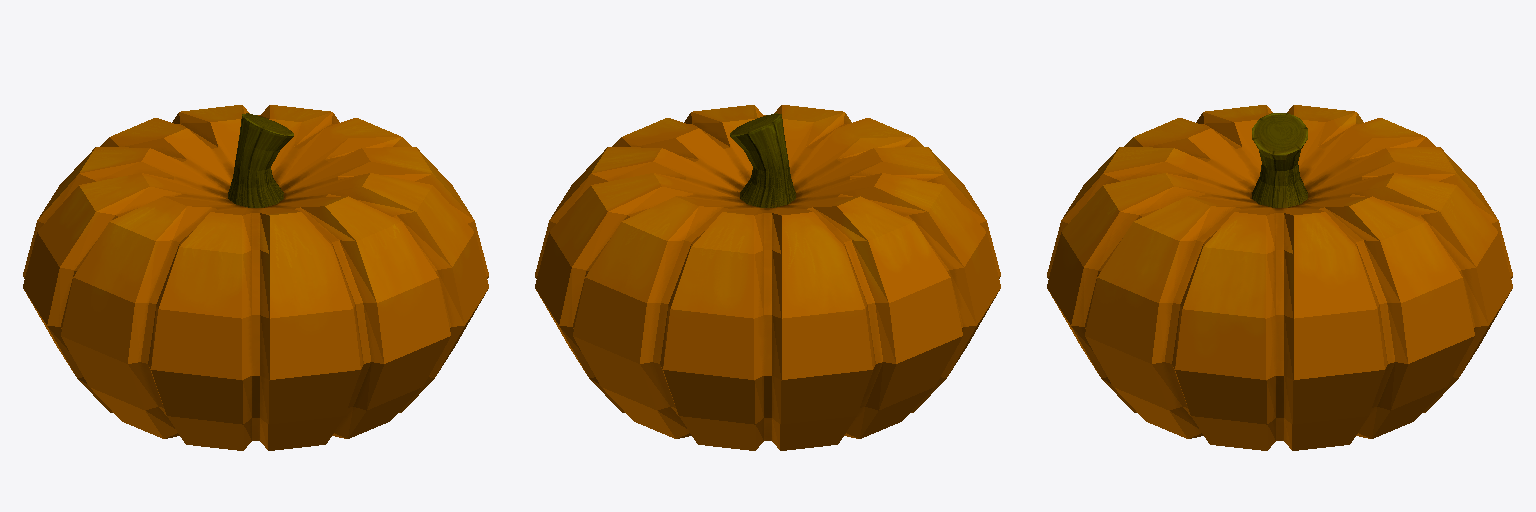
3 views of the same model, side by side, from view 1: azimuth 30°, elevation 25°; view 2: azimuth 150°, elevation 25°; view 3: azimuth 270°, elevation 25° (orthographic).
Visible parts, largest first — view 1: Sphere; view 2: Sphere; view 3: Sphere.
Boxes of the visible parts, <box> form: Sphere: <box>23,105,488,450</box>; Sphere: <box>535,105,1000,450</box>; Sphere: <box>1047,105,1512,450</box>.
Bounding box in the file's own units: 1.46 × 0.9582 × 1.46.
1 materials, 1 textured.